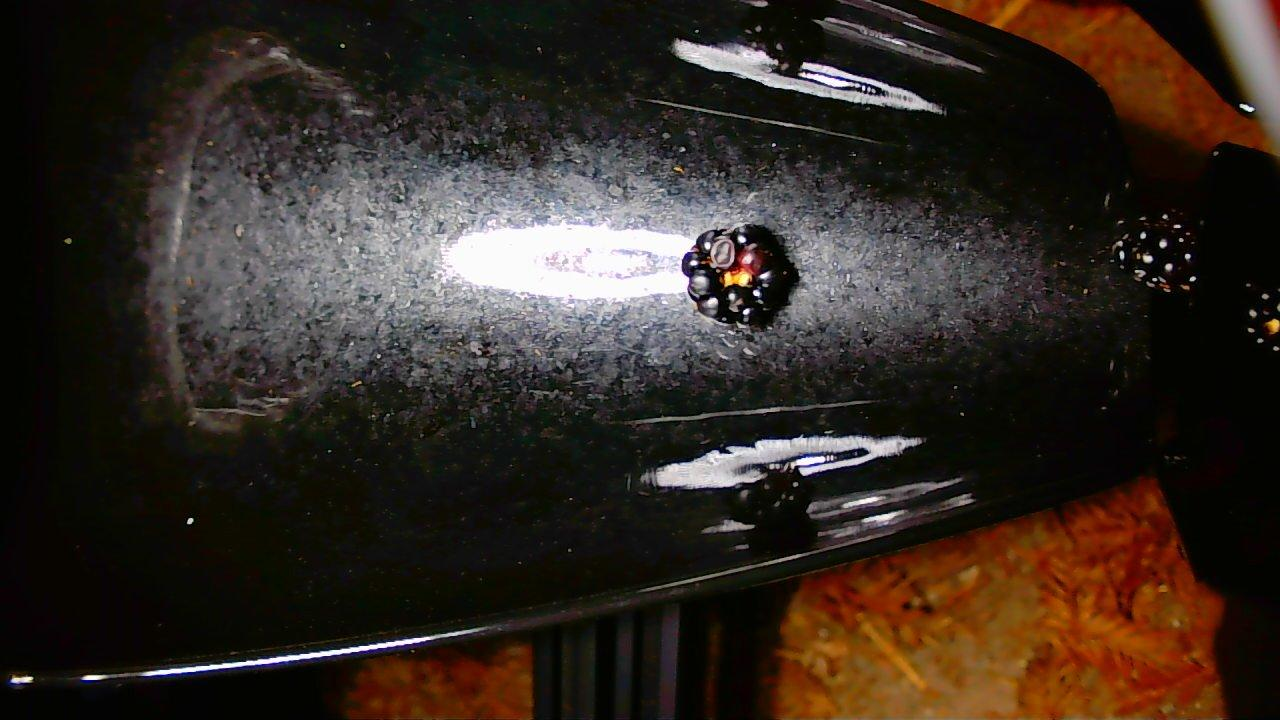berry: (681, 225, 792, 323), (1111, 211, 1198, 291), (1232, 280, 1279, 354)
